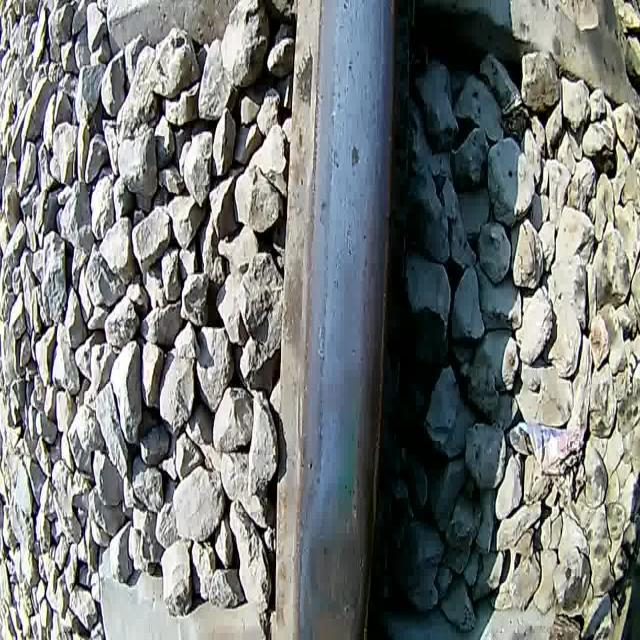Shellings: (313, 0, 343, 493)
Squats: (296, 516, 368, 640)
